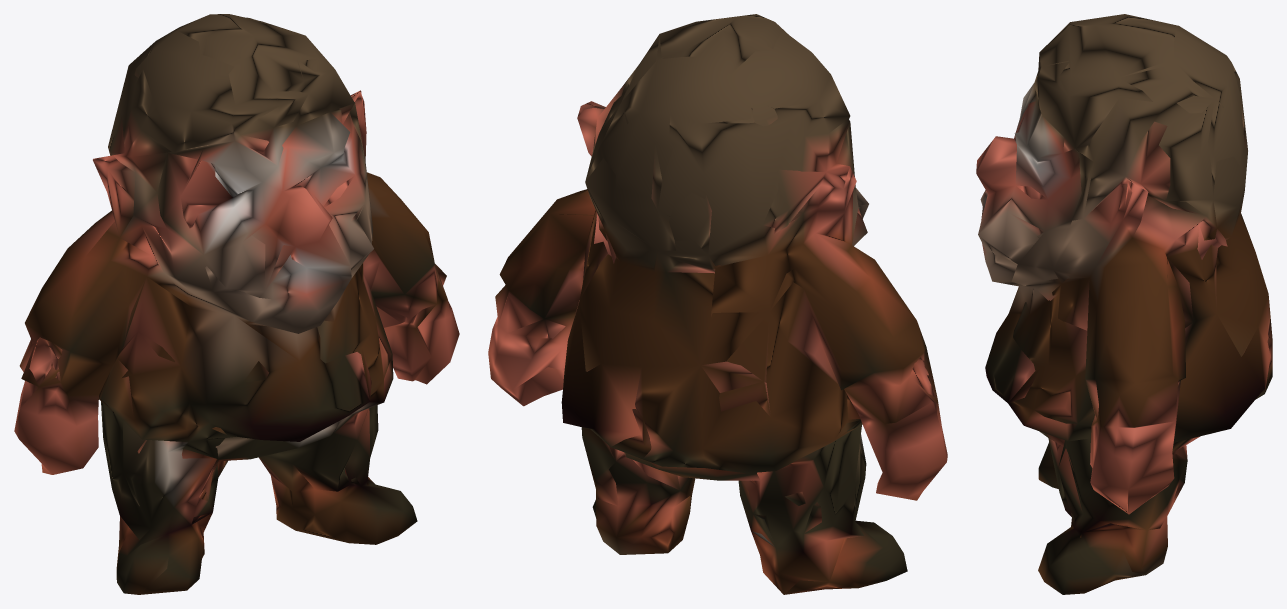
The model's file is gen3d-dwarve-lod0.glb.
The picture shows the model from 3 angles, left to right: view 1: azimuth 30°, elevation 25°; view 2: azimuth 150°, elevation 25°; view 3: azimuth 270°, elevation 25°; orthographic projection. The views are drawn at different scales.
Parts seen in each view (by area): view 1: part_0; view 2: part_0; view 3: part_0.
Part boxes in pixels (x1,y1,x2,y2): part_0: (14, 14, 459, 594); part_0: (488, 14, 947, 594); part_0: (976, 14, 1272, 594).
Bounding box in the file's own units: 0.8982 × 0.9975 × 0.5334.
